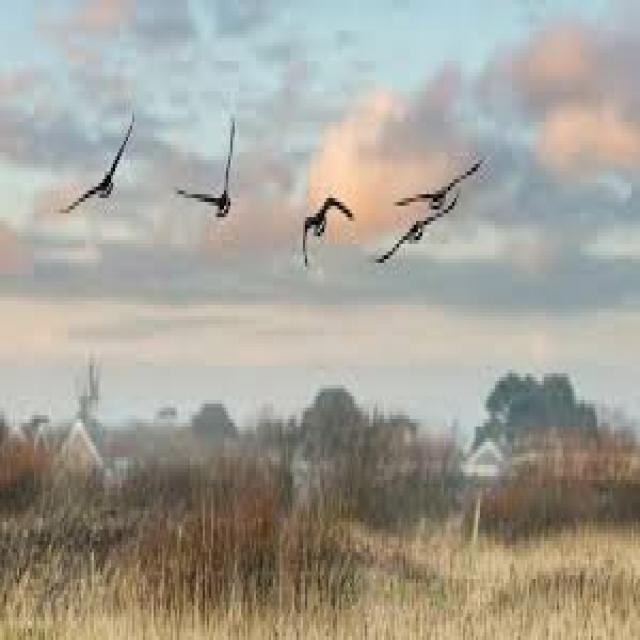bird: (34, 72, 171, 347), (141, 25, 256, 265), (361, 192, 488, 288), (290, 132, 356, 288), (390, 150, 497, 216)
